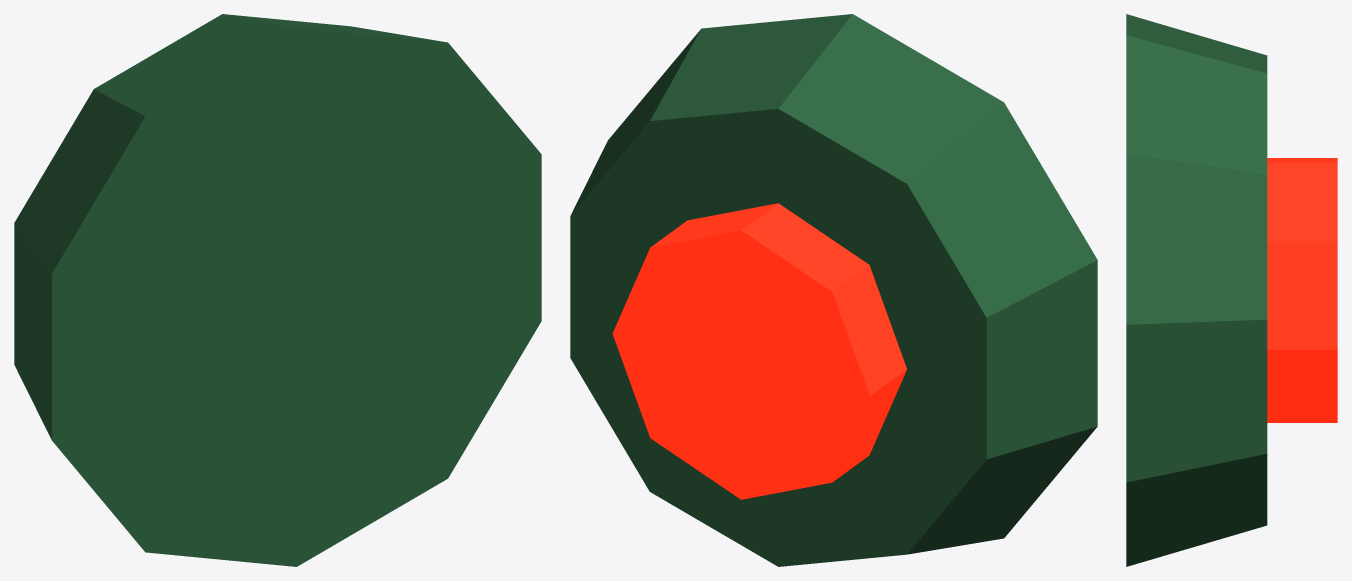
File: Mine.fbx
The picture shows the model from 3 angles, left to right: view 1: azimuth 30°, elevation 25°; view 2: azimuth 150°, elevation 25°; view 3: azimuth 270°, elevation 25°; orthographic projection. The views are drawn at different scales.
Parts seen in each view (by area): view 1: Mine; view 2: Mine; view 3: Mine.
Boxes of the visible parts, x1,y1,x2,y2 form: Mine: [14, 14, 541, 566]; Mine: [570, 14, 1097, 566]; Mine: [1126, 14, 1337, 566].
Bounding box in the file's own units: 76.08 × 80 × 30.
